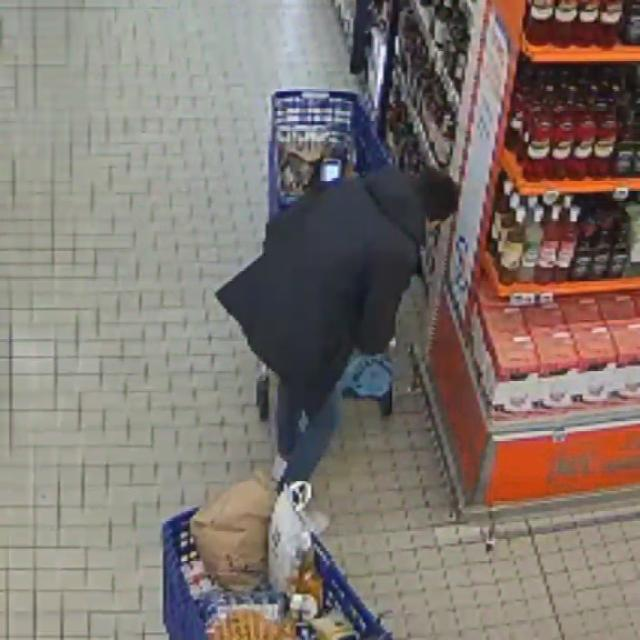person: (216, 166, 458, 490)
